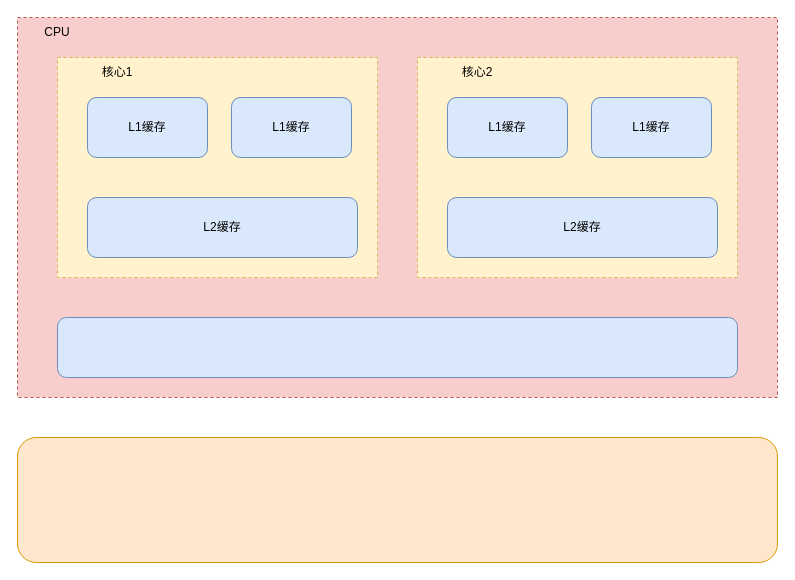
Some shapes in this 795 by 580 pixel diagram are drawn without their labels. Here are the shapes that lost their labels. From the top down, the centre of each, then its label:
At (397,347): "L3缓存".
At (397,499): "内存".
